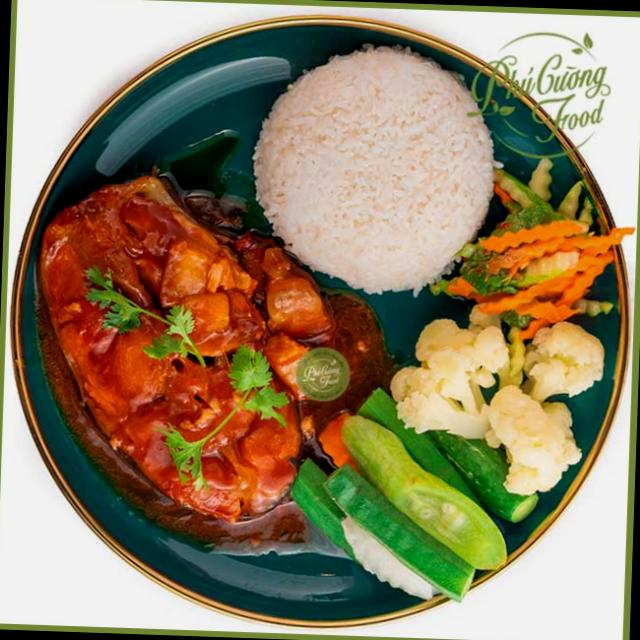ca kho: (37, 176, 334, 521)
com: (254, 45, 492, 292)
dau bap: (291, 388, 536, 599)
do chua: (431, 157, 633, 338), (341, 516, 439, 599)
rau: (390, 307, 603, 495)
